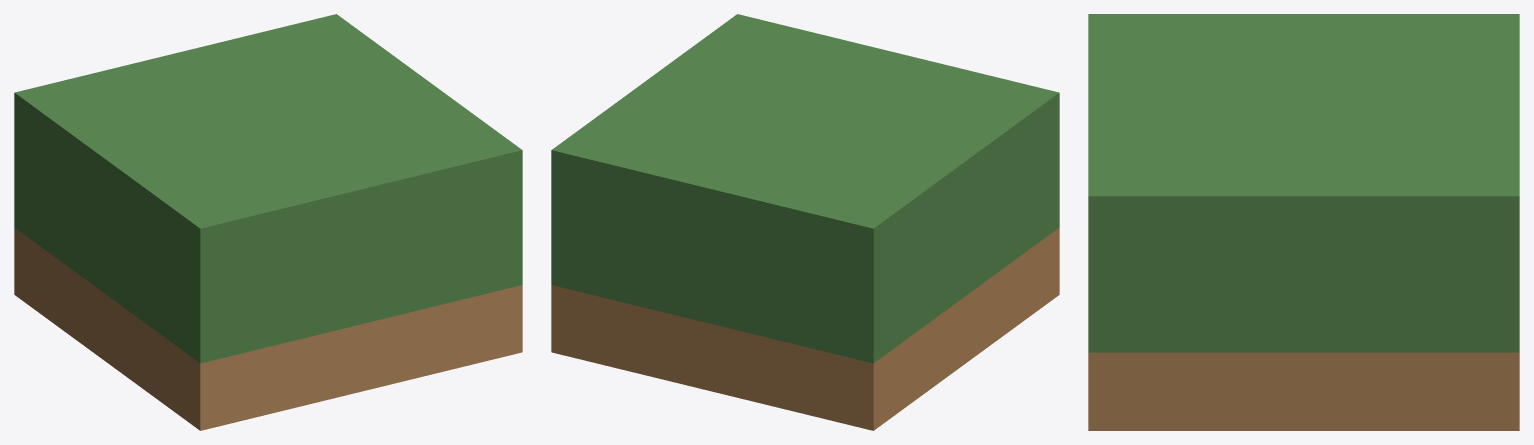
Rendered from tile_105.fbx.
The picture shows the model from 3 angles, left to right: view 1: azimuth 30°, elevation 25°; view 2: azimuth 150°, elevation 25°; view 3: azimuth 270°, elevation 25°; orthographic projection. The views are drawn at different scales.
Parts seen in each view (by area): view 1: tile_105; view 2: tile_105; view 3: tile_105.
Boxes of the visible parts, x1,y1,x2,y2 form: tile_105: (14, 14, 522, 430); tile_105: (551, 14, 1059, 430); tile_105: (1088, 14, 1519, 430).
Size of the model in its own units: 10 by 6 by 10.
